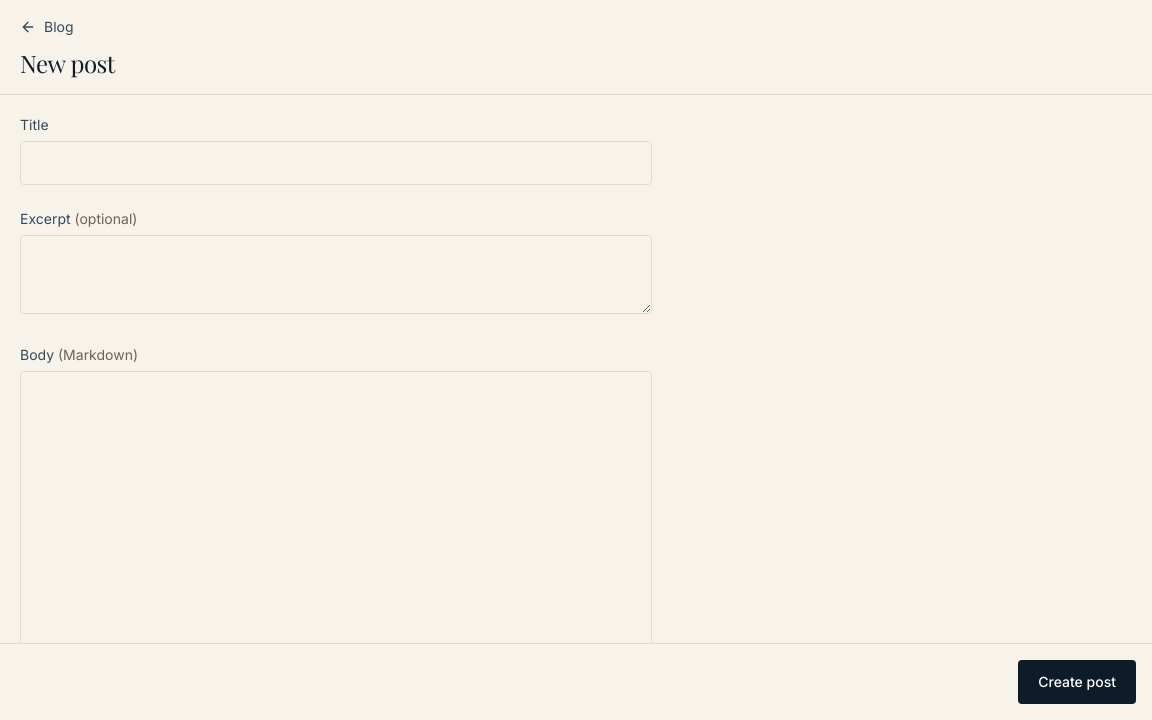
Test: BlogForm › requires a title and a body on create
The image size is (1152, 720).
Click the button "Create post". click: {"x": 1077, "y": 682}
box: top-left (1018, 660), bottom-right (1136, 704)
(page scrolled)
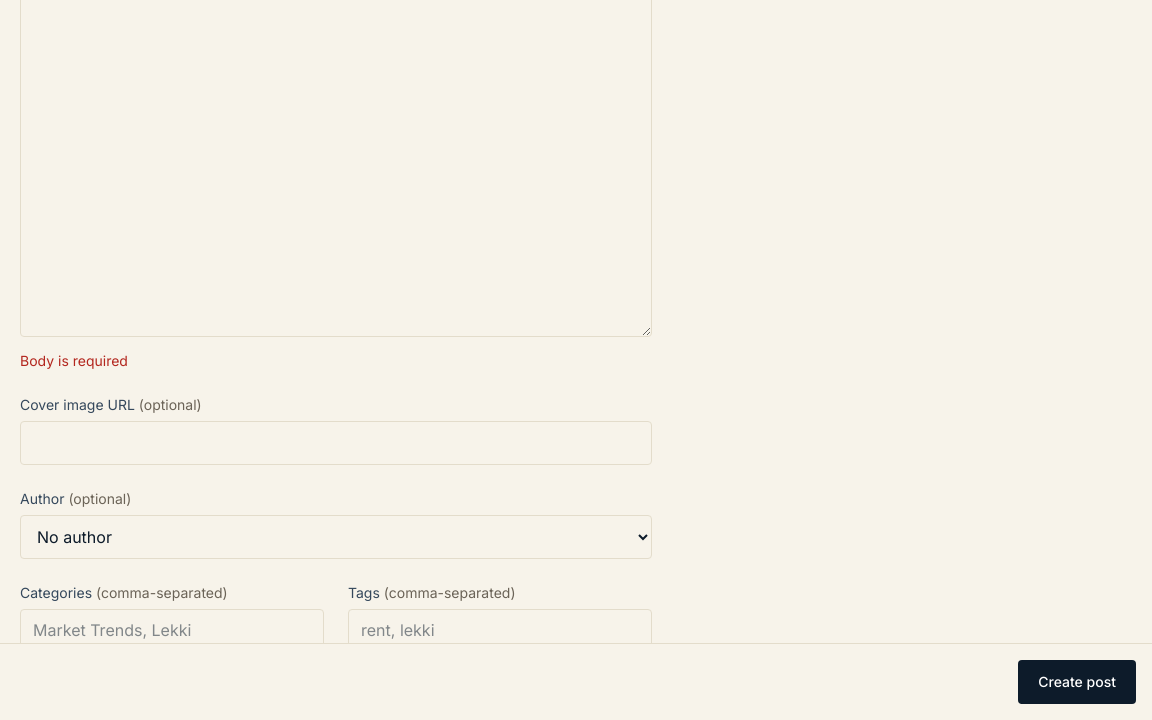
Result: the text "Body is required" is shown at top-left (20, 352), bottom-right (128, 368)
